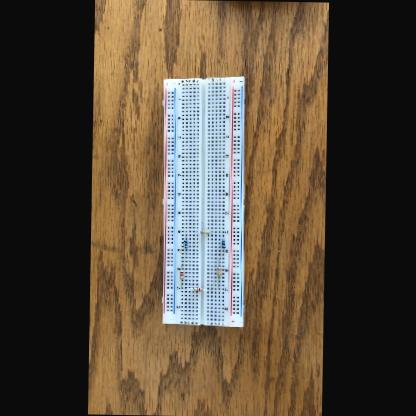breadboard: (159, 75, 247, 327)
resistor: (217, 266, 221, 276), (200, 230, 209, 234), (222, 239, 226, 248), (180, 270, 184, 279), (184, 240, 188, 247), (193, 288, 202, 290)
wire: (218, 254, 220, 266), (202, 288, 211, 290), (222, 250, 224, 256), (218, 276, 219, 288), (222, 232, 223, 240), (181, 280, 182, 288), (186, 287, 194, 288), (185, 231, 186, 238), (196, 232, 199, 233), (209, 232, 212, 233), (186, 248, 186, 257), (182, 258, 182, 270)
